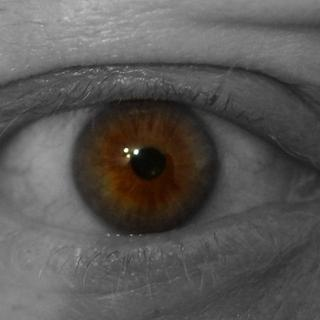pupil: (132, 145, 165, 178)
